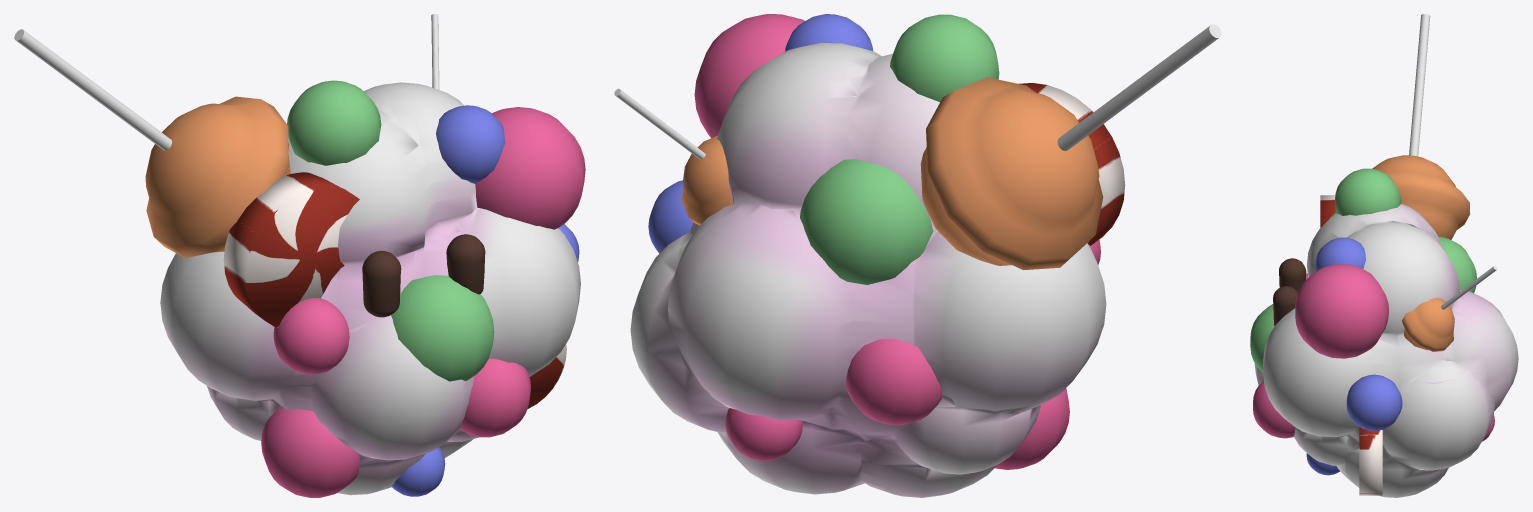
Rendered from Sorbitol.fbx.
3 views of the same model, side by side, from view 1: azimuth 30°, elevation 25°; view 2: azimuth 150°, elevation 25°; view 3: azimuth 270°, elevation 25° (orthographic). The views are drawn at different scales.
Parts seen in each view (by area): view 1: Sphere.041; view 2: Sphere.041; view 3: Sphere.041.
Part boxes in pixels (x1,y1,x2,y2): Sphere.041: (14, 14, 585, 497); Sphere.041: (614, 14, 1221, 497); Sphere.041: (1250, 14, 1518, 497).
Size of the model in its own units: 327 by 299 by 206.
8 materials, 2 textured.
